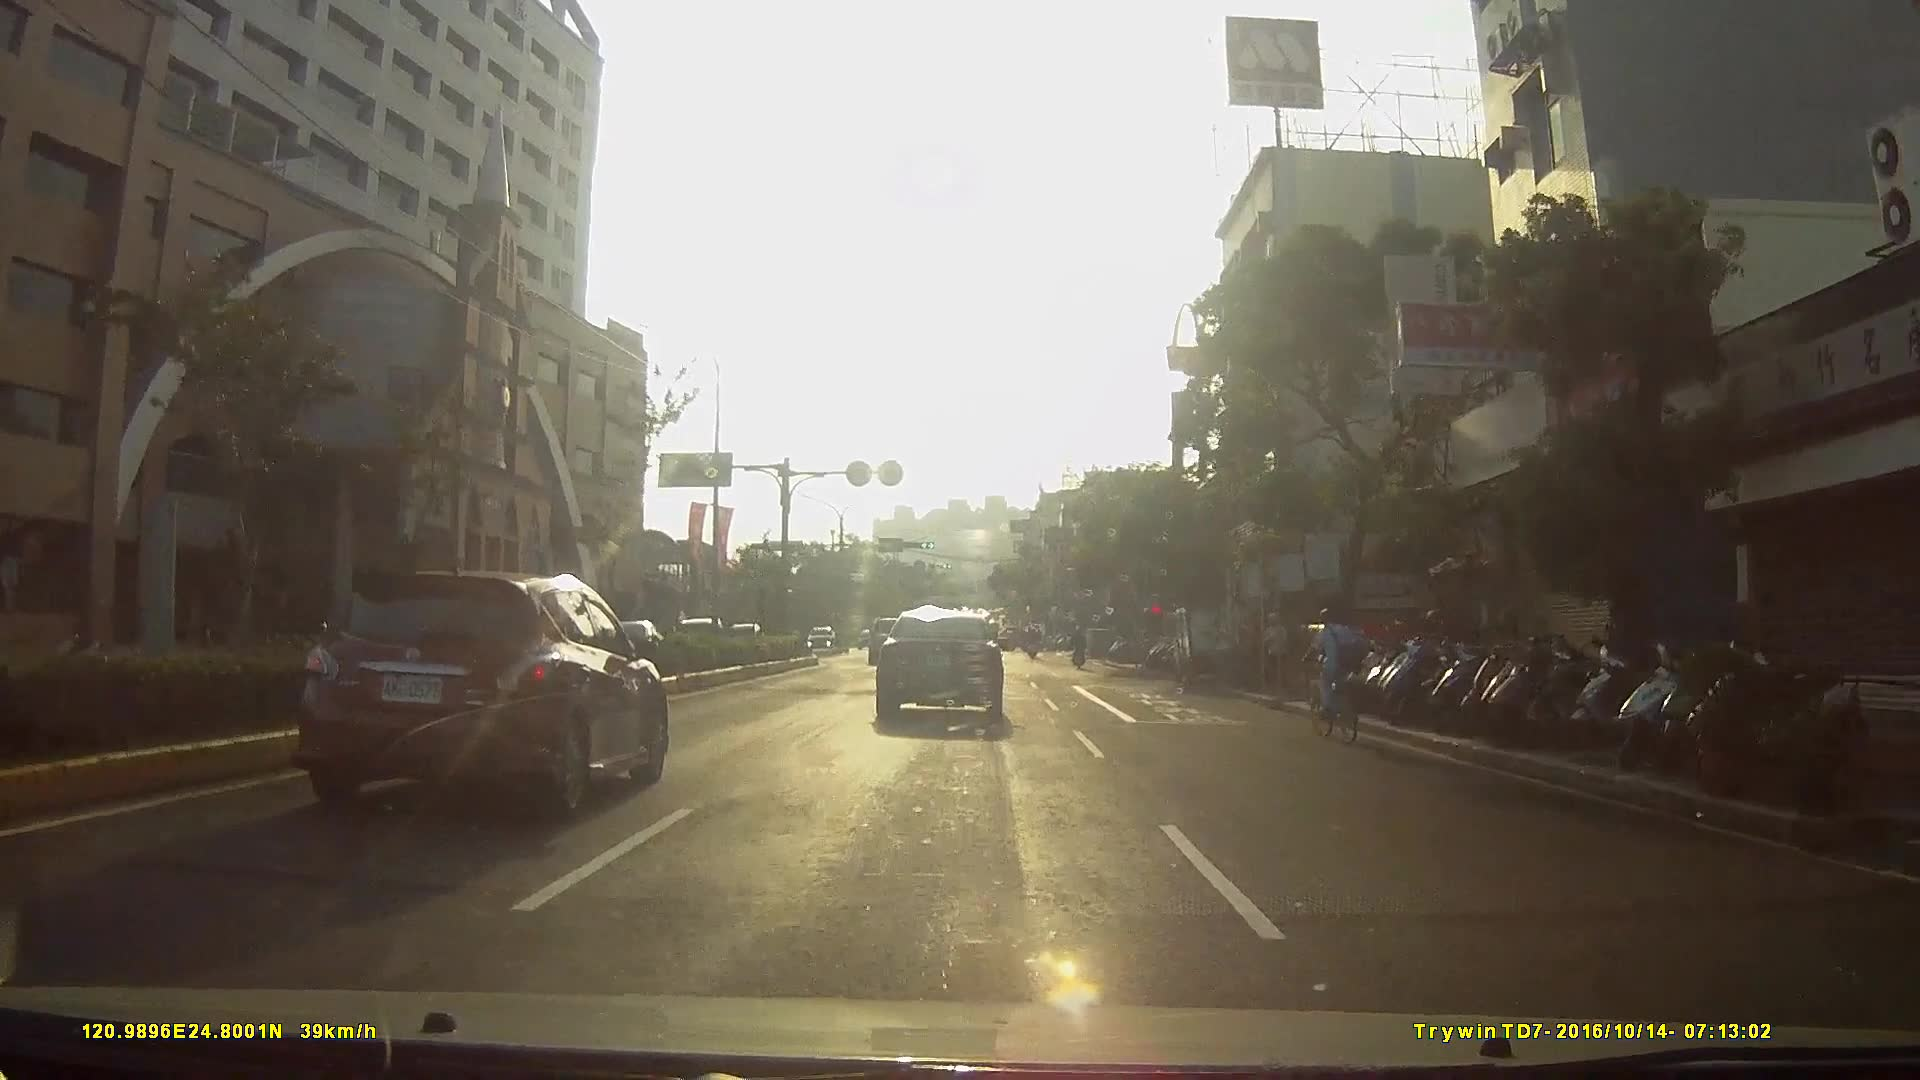pedestrian: (1261, 615, 1294, 701)
rider: (1305, 609, 1371, 745)
vehicle: (288, 564, 679, 820), (869, 608, 1018, 735), (1169, 598, 1254, 684), (763, 607, 822, 662), (794, 621, 845, 659)
